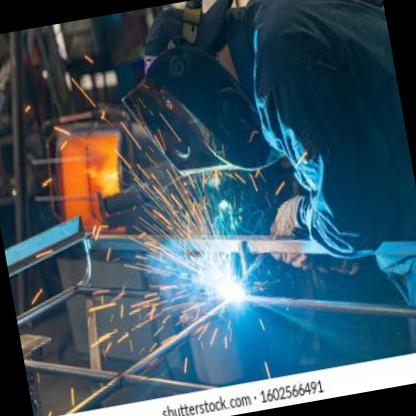Gloves: (261, 192, 319, 272)
